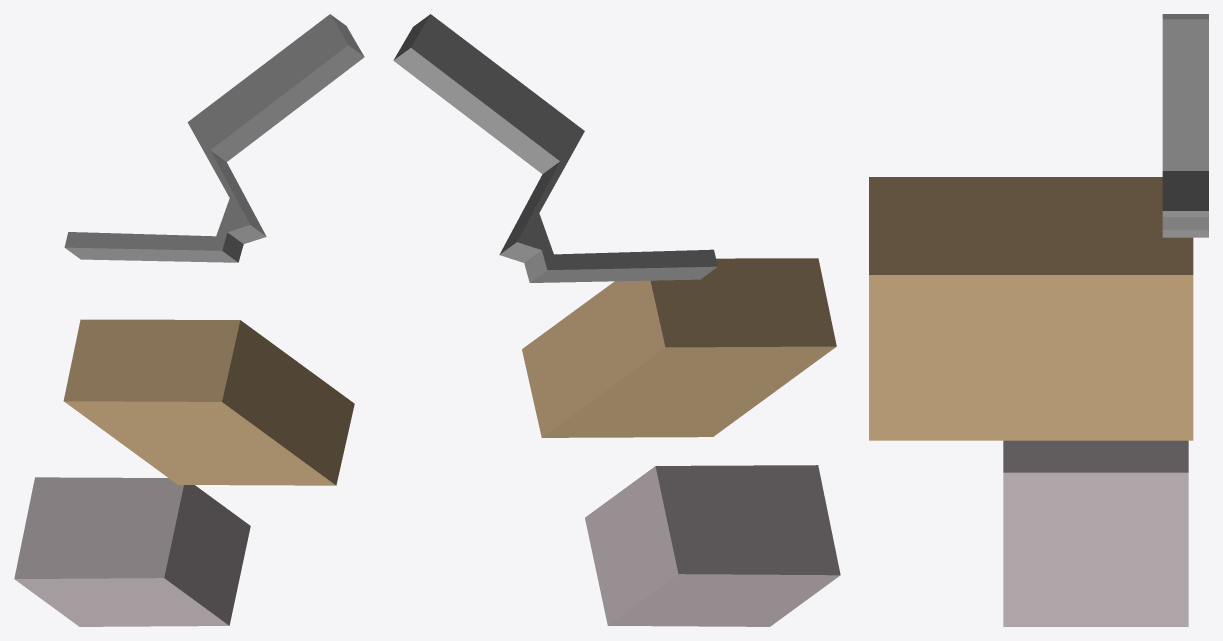
3 views of the same model, side by side, from view 1: azimuth 30°, elevation 25°; view 2: azimuth 150°, elevation 25°; view 3: azimuth 270°, elevation 25° (orthographic). The views are drawn at different scales.
Parts seen in each view (by area): view 1: 0_3_0_1_2_2_1_1_3; view 2: 0_3_0_1_2_2_1_1_3; view 3: 0_3_0_1_2_2_1_1_3.
Boxes of the visible parts, x1,y1,x2,y2 form: 0_3_0_1_2_2_1_1_3: (14, 14, 364, 626); 0_3_0_1_2_2_1_1_3: (393, 14, 840, 626); 0_3_0_1_2_2_1_1_3: (869, 14, 1208, 626).
Bounding box in the file's own units: 36.17 × 52.35 × 22.
